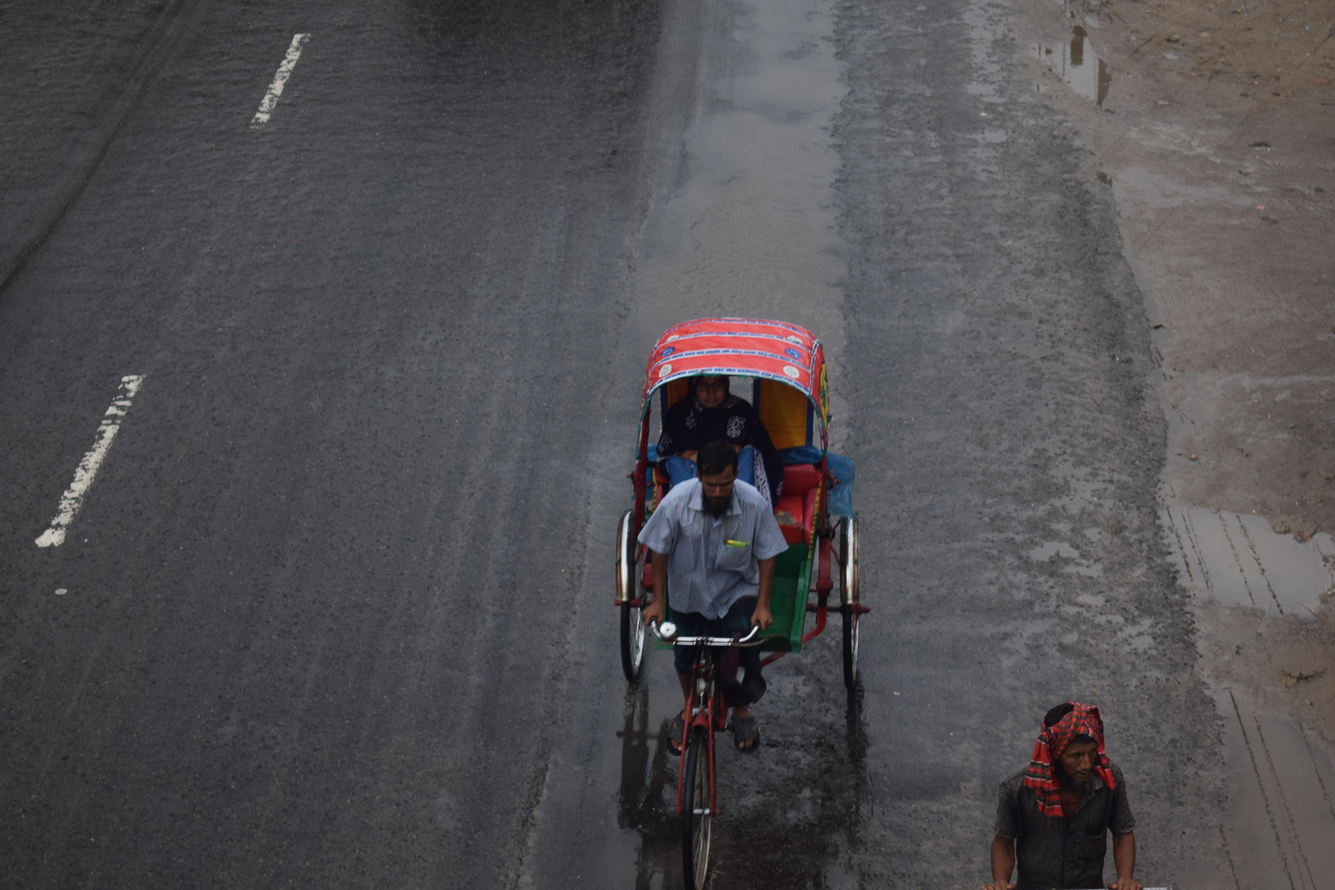Car: (463, 260, 937, 890)
